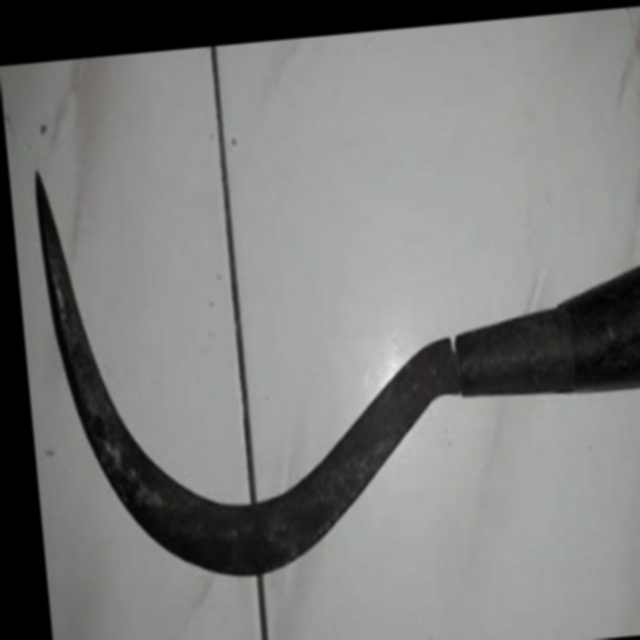Sharp-Object: (30, 104, 640, 592)
